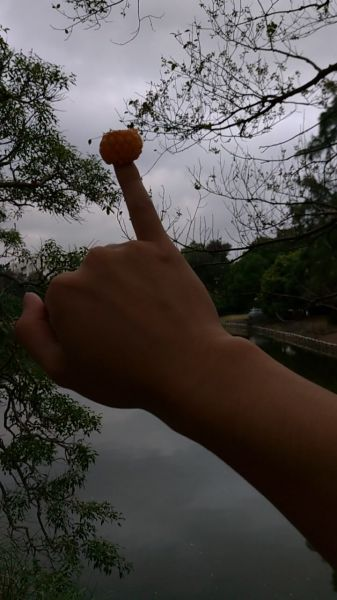eggs: (100, 131, 142, 164)
